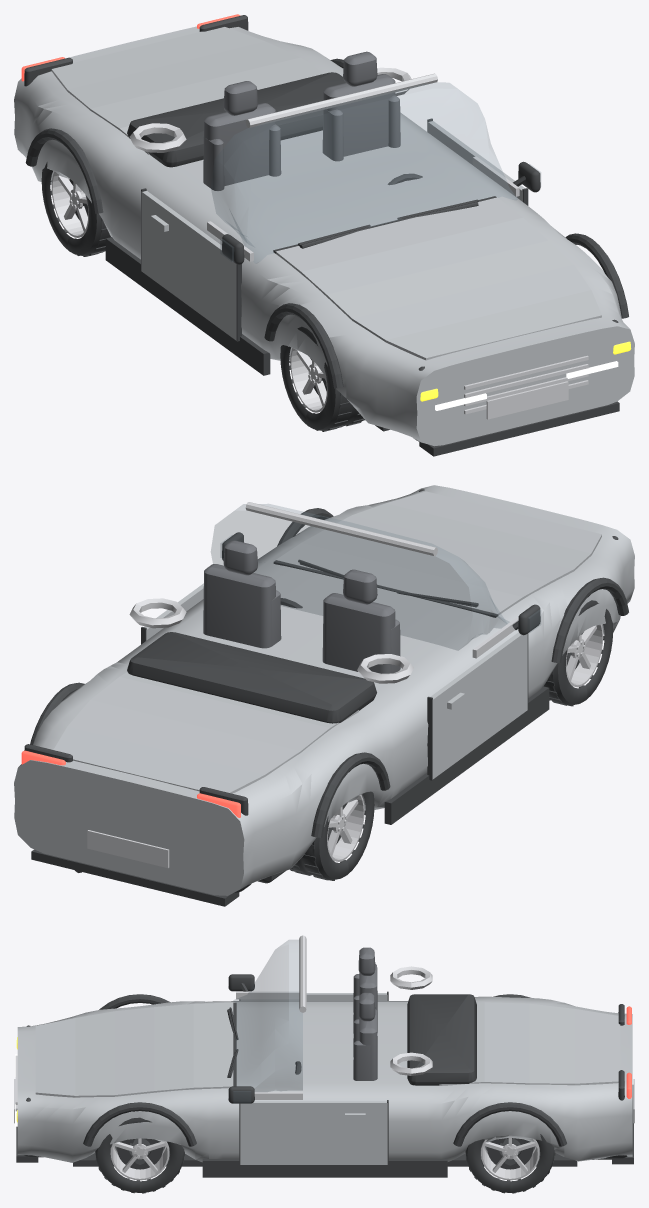
Rendered from type_gt.glb.
The picture shows the model from 3 angles, top to bottom: view 1: azimuth 30°, elevation 25°; view 2: azimuth 150°, elevation 25°; view 3: azimuth 270°, elevation 25°; orthographic projection. The views are drawn at different scales.
Parts seen in each view (by area): view 1: convertible-roof-down, bonnet, boot, door-front-left, wheel-front-left/trim, wheel-rear-left/trim, wheel-rear-left/alloy, wheel-front-left/alloy, door-front-right; view 2: convertible-roof-down, bonnet, boot, door-front-left, wheel-rear-left/trim, wheel-front-left/trim, wheel-rear-left/alloy, wheel-front-left/alloy, door-front-right; view 3: convertible-roof-down, bonnet, boot, door-front-right, wheel-front-right/trim, wheel-rear-right/trim, wheel-rear-right/alloy, wheel-front-right/alloy, door-front-left.
Part boxes in pixels (bbox=[...]): convertible-roof-down: bbox=[14, 14, 634, 456]; bonnet: bbox=[275, 197, 601, 360]; boot: bbox=[51, 27, 324, 154]; door-front-left: bbox=[141, 191, 236, 340]; wheel-front-left/trim: bbox=[280, 326, 364, 431]; wheel-rear-left/trim: bbox=[41, 162, 110, 256]; wheel-rear-left/alloy: bbox=[51, 171, 88, 237]; wheel-front-left/alloy: bbox=[290, 348, 327, 412]; door-front-right: bbox=[427, 121, 524, 201]; convertible-roof-down: bbox=[14, 485, 634, 906]; bonnet: bbox=[276, 491, 601, 615]; boot: bbox=[53, 672, 358, 793]; door-front-left: bbox=[430, 632, 527, 779]; wheel-rear-left/trim: bbox=[290, 791, 374, 880]; wheel-front-left/trim: bbox=[544, 600, 613, 706]; wheel-rear-left/alloy: bbox=[327, 794, 364, 861]; wheel-front-left/alloy: bbox=[566, 624, 603, 687]; door-front-right: bbox=[144, 583, 203, 640]; convertible-roof-down: bbox=[14, 935, 634, 1177]; bonnet: bbox=[35, 1002, 233, 1097]; boot: bbox=[439, 1002, 620, 1085]; door-front-right: bbox=[240, 1101, 387, 1164]; wheel-front-right/trim: bbox=[95, 1117, 184, 1193]; wheel-rear-right/trim: bbox=[465, 1134, 555, 1193]; wheel-rear-right/alloy: bbox=[481, 1136, 539, 1180]; wheel-front-right/alloy: bbox=[110, 1138, 169, 1180]; door-front-left: bbox=[240, 993, 387, 1000].
Size of the model in its own units: 1.99 by 1.36 by 4.46.
